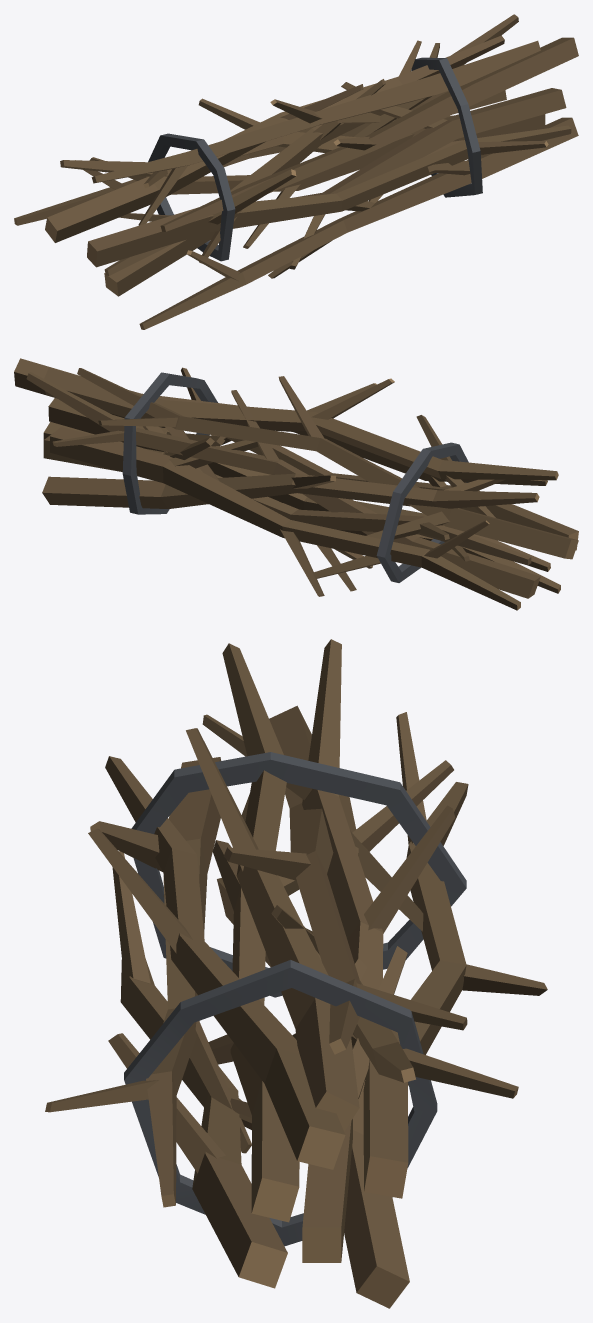
Rendered from SM_Prop_Stick_Bundle_01.fbx.
3 renders of one model, top to bottom at view 1: azimuth 30°, elevation 25°; view 2: azimuth 150°, elevation 25°; view 3: azimuth 270°, elevation 25°, orthographic. The views are drawn at different scales.
Parts seen in each view (by area): view 1: SM_Prop_Stick_Bundle_01; view 2: SM_Prop_Stick_Bundle_01; view 3: SM_Prop_Stick_Bundle_01.
Boxes of the visible parts, bbox=[...] form: SM_Prop_Stick_Bundle_01: bbox=[14, 14, 578, 329]; SM_Prop_Stick_Bundle_01: bbox=[14, 358, 578, 610]; SM_Prop_Stick_Bundle_01: bbox=[45, 639, 547, 1308].
Bounding box in the file's own units: 1.72 × 0.6057 × 0.7025.
1 material, 1 textured.
